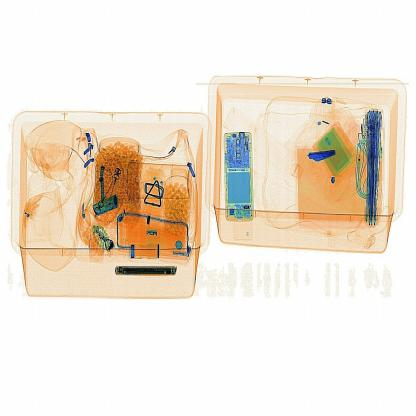knife: (298, 136, 348, 178)
